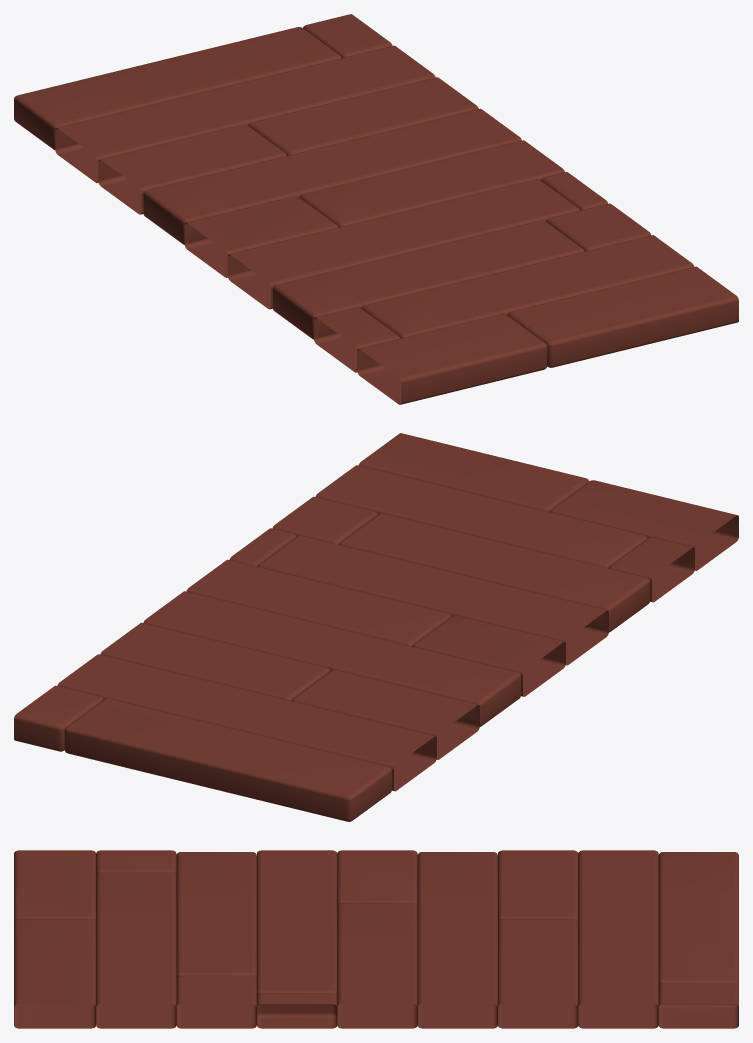
File: SM_Ground_Wood_03.fbx
The picture shows the model from 3 angles, top to bottom: view 1: azimuth 30°, elevation 25°; view 2: azimuth 150°, elevation 25°; view 3: azimuth 270°, elevation 25°; orthographic projection. The views are drawn at different scales.
Visible parts, largest first — view 1: Plane.001; view 2: Plane.001; view 3: Plane.001.
Boxes of the visible parts, x1,y1,x2,y2 form: Plane.001: (14,14,738,404); Plane.001: (14,433,738,821); Plane.001: (14,850,738,1028).
Bounding box in the file's own units: 200 × 15 × 400.
